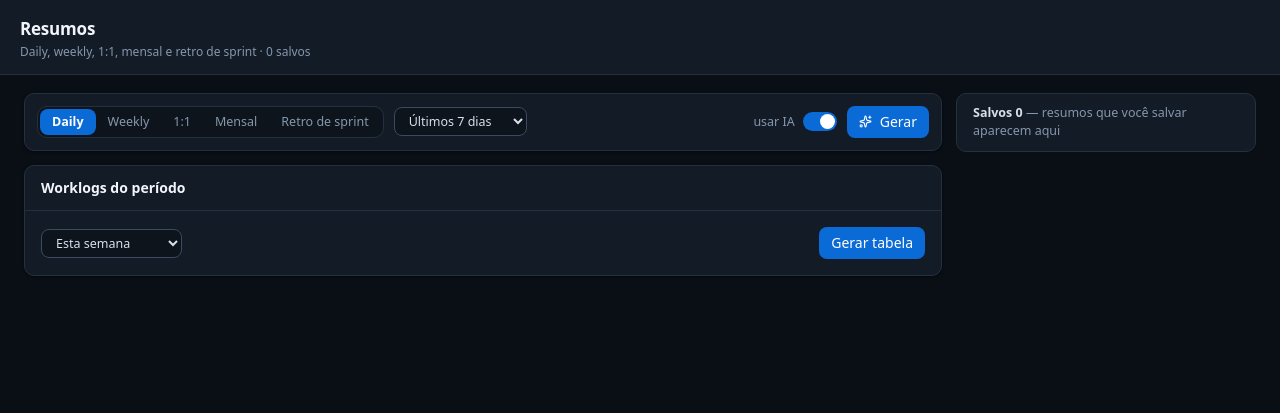
Test: Summaries › gera resumo com IA e mostra a pílula do provider
Expected: the switch is enabled, [803,112,837,131]
What coordinates should you click on to do the following:
click the button "Gerar"
I would click on:
 (888, 122)
Its box is [847,106,929,138].
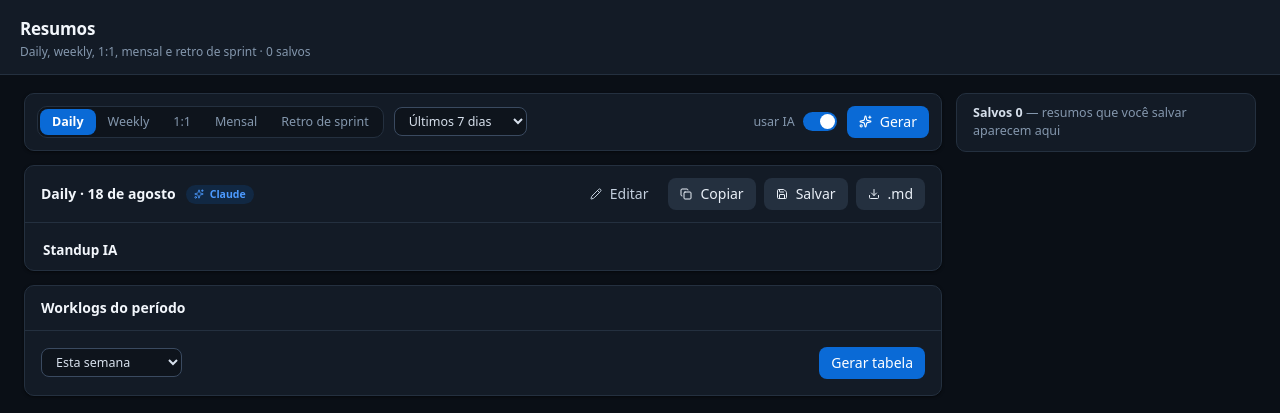
Expected: the text "Claude" is shown, [186,185,254,204]
